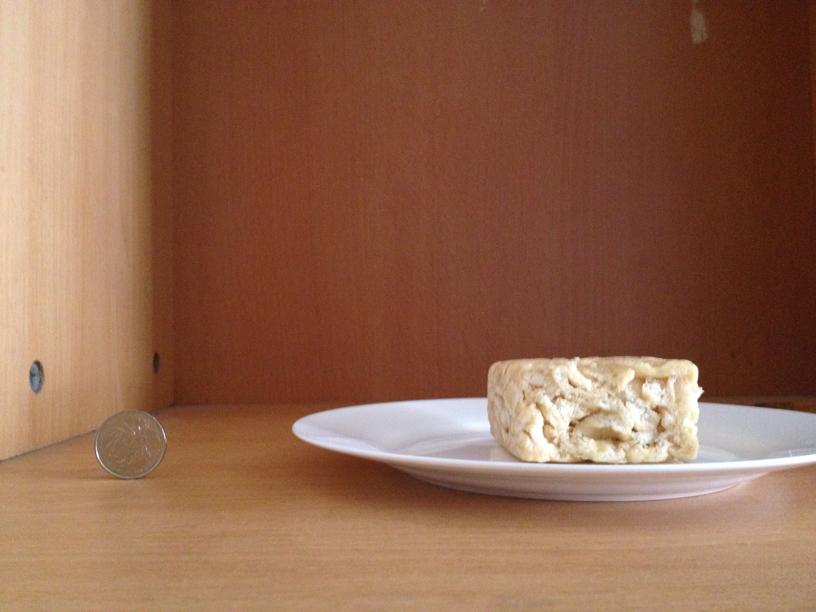coin: (91, 408, 166, 479)
sachima: (483, 351, 700, 462)
